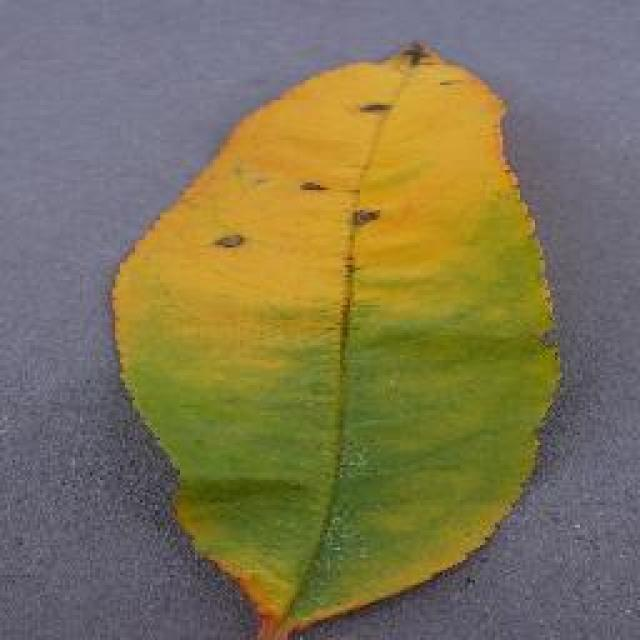Peach_Bacterial_Spot: (225, 71, 468, 306)
